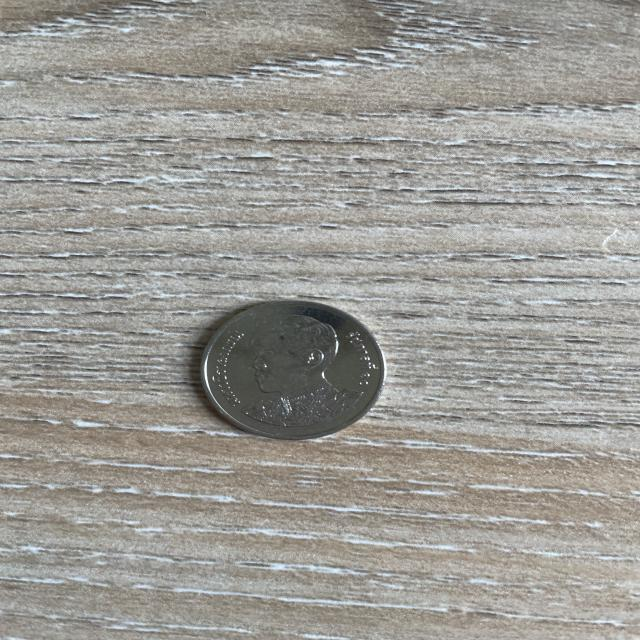1 Bath: (196, 295, 390, 444)
